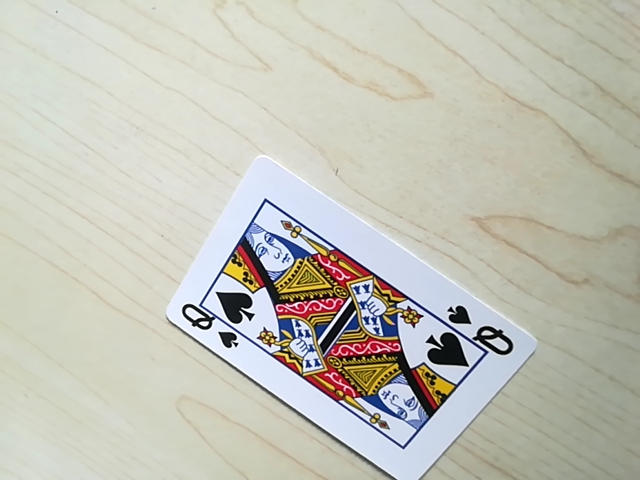ht q: (175, 308, 260, 349), (441, 309, 512, 349)
